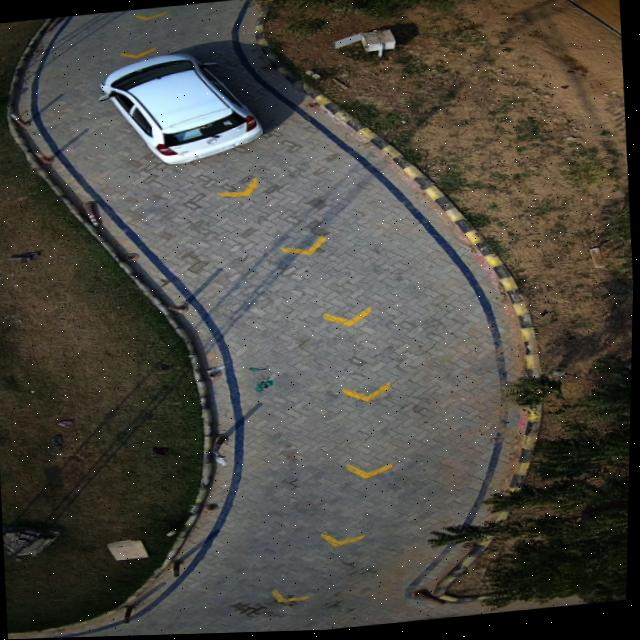car: (100, 53, 263, 163)
